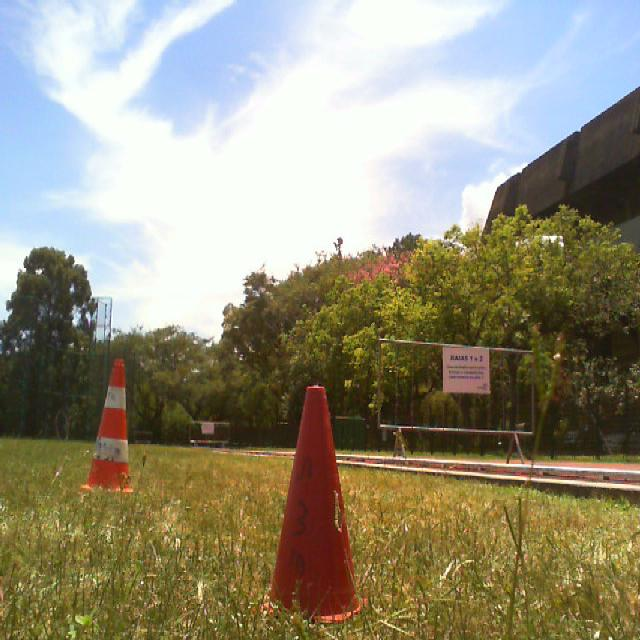cone: (261, 388, 367, 621), (80, 360, 133, 495)
